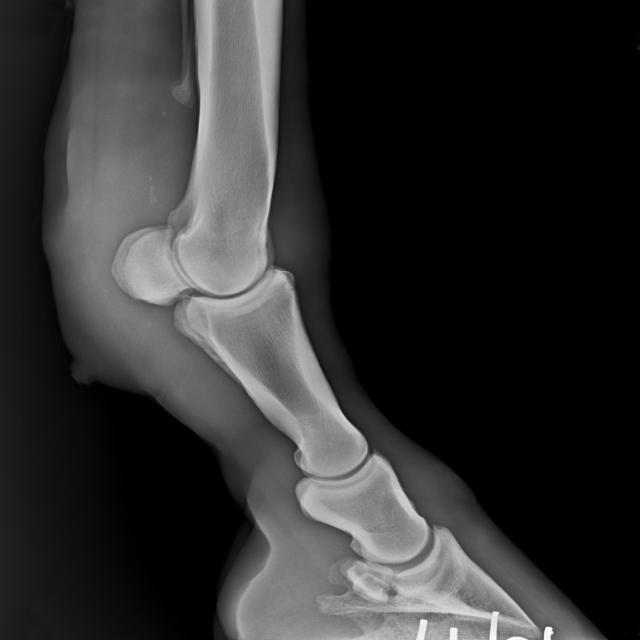joint-ht8A: (87, 169, 346, 380)
